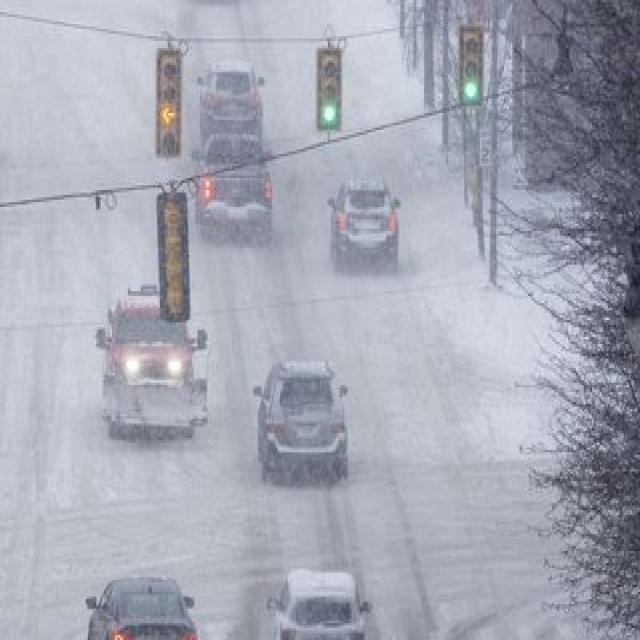car: (104, 287, 203, 442), (258, 356, 352, 480), (83, 568, 203, 640), (199, 137, 272, 241), (272, 568, 371, 640), (328, 180, 401, 266), (199, 59, 267, 139)
